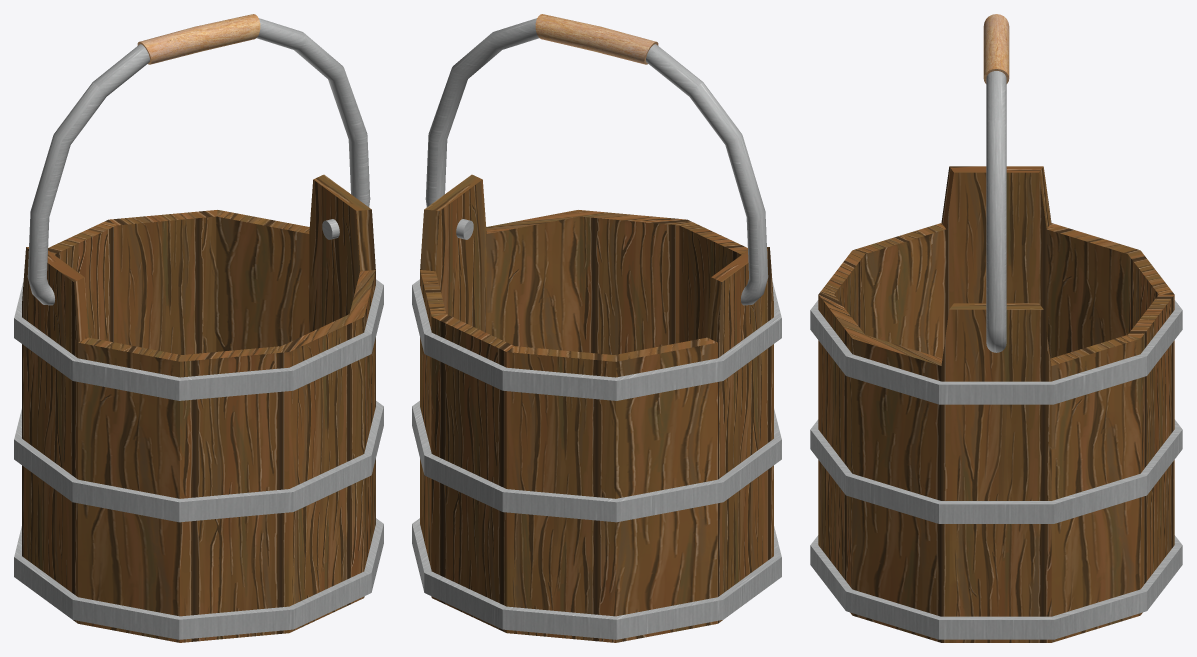
File: Bucket.fbx
3 views of the same model, side by side, from view 1: azimuth 30°, elevation 25°; view 2: azimuth 150°, elevation 25°; view 3: azimuth 270°, elevation 25° (orthographic).
Visible parts, largest first — view 1: Bucket; view 2: Bucket; view 3: Bucket.
Part boxes in pixels (x1,y1,x2,y2): Bucket: (14,14,383,642); Bucket: (412,14,781,642); Bucket: (810,14,1182,642).
Bounding box in the file's own units: 45.5 × 69.11 × 43.86.
